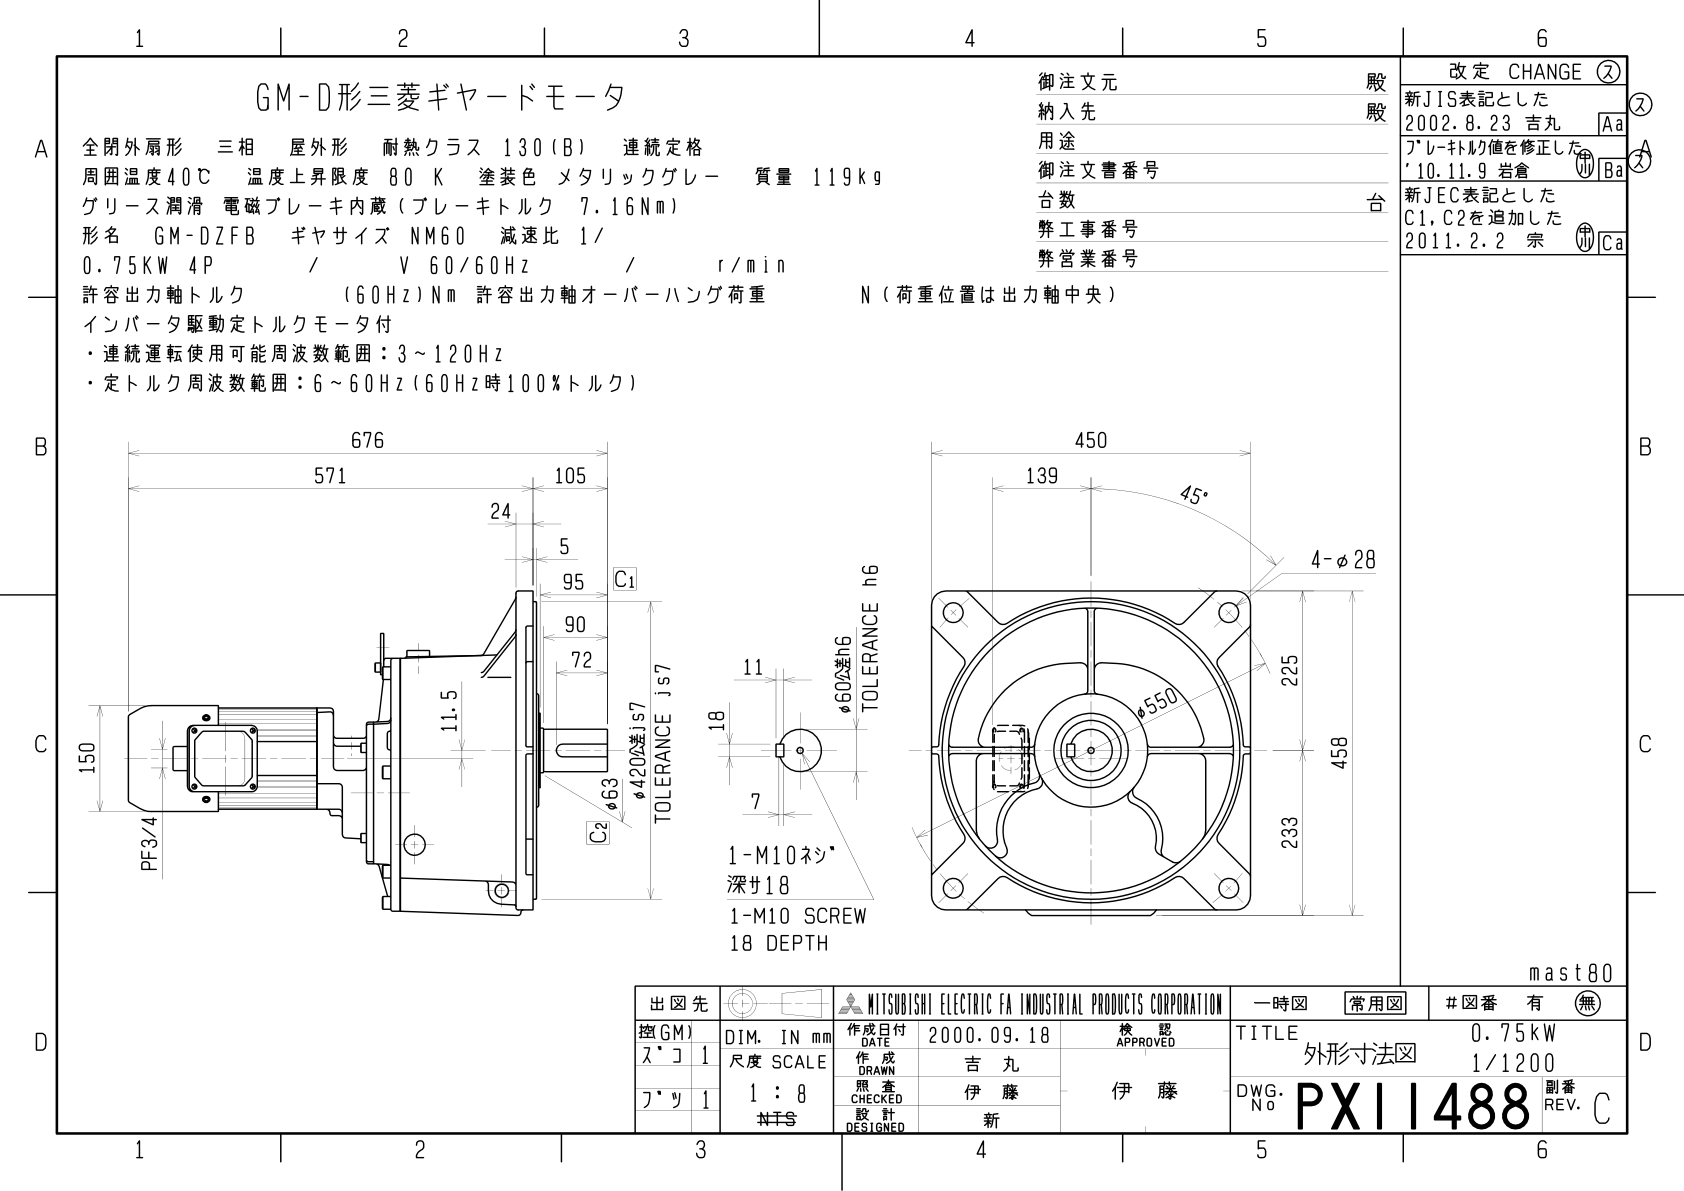GM_D_インバータ屋外_三相_フランジ: (1, 1, 1669, 1183)
